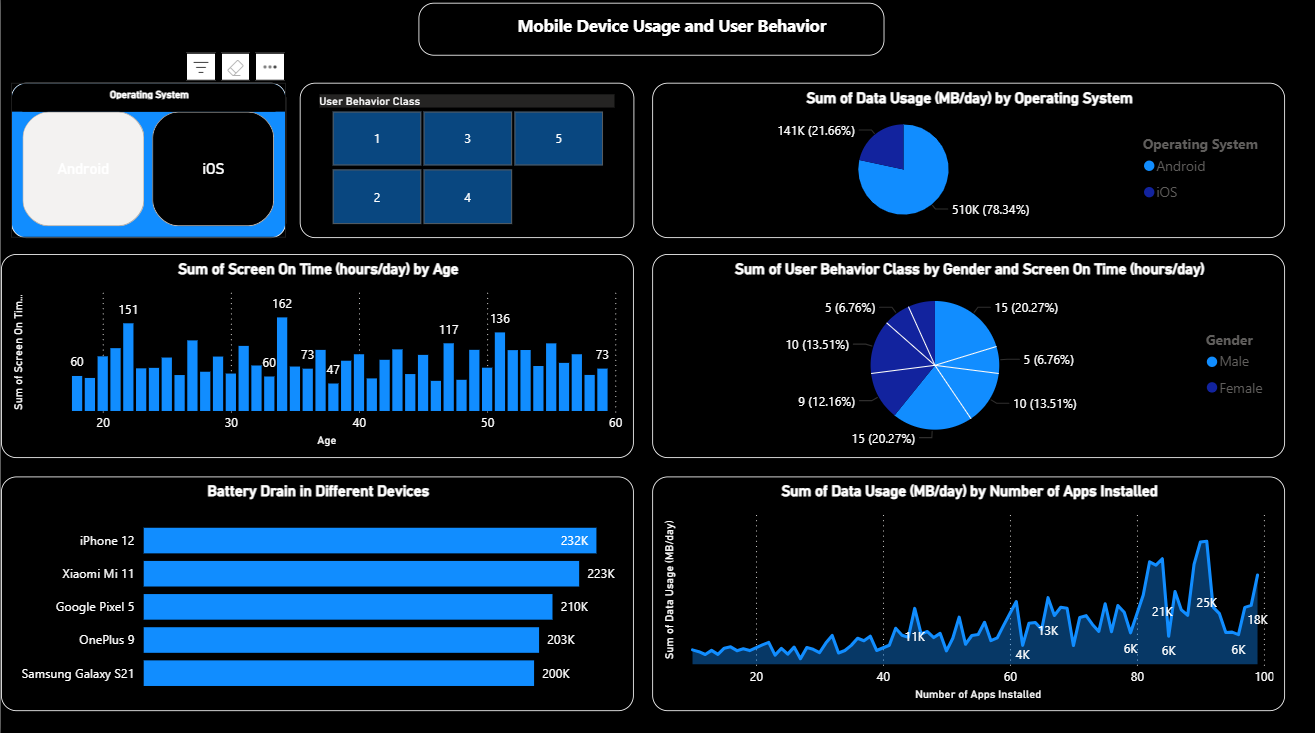

This screenshot's page, from the dashboard's own definition file:
{"tool":"powerbi","page":{"name":"Page 1","canvas":[1280,720],"ordinal":0},"visuals":[{"type":"barChart","title":"Battery Drain in Different Devices","fields":{"Category":["user_behavior_dataset.Device Model"],"Y":["Sum(user_behavior_dataset.Battery Drain (mAh/day))"]},"box":[0,466.7,613.1,227.4],"z":0},{"type":"pieChart","fields":{"Y":["Sum(user_behavior_dataset.Data Usage (MB/day))"],"Category":["user_behavior_dataset.Operating System"]},"box":[631,85.7,613.1,150],"z":1000},{"type":"stackedAreaChart","fields":{"Category":["user_behavior_dataset.Number of Apps Installed"],"Y":["Sum(user_behavior_dataset.Data Usage (MB/day))"]},"box":[631,466.7,613.1,227.4],"z":2000},{"type":"advancedSlicerVisual","fields":{"Values":["user_behavior_dataset.Operating System"]},"box":[9.5,85.7,266.7,150],"z":3000},{"type":"columnChart","fields":{"Category":["user_behavior_dataset.Age"],"Y":["Sum(user_behavior_dataset.Screen On Time (hours/day))"]},"box":[0,251.2,613.1,197.6],"z":4000},{"type":"pieChart","fields":{"Y":["Sum(user_behavior_dataset.User Behavior Class)"],"Series":["user_behavior_dataset.Screen On Time (hours/day)"],"Category":["user_behavior_dataset.Gender"]},"box":[631,251.2,613.1,197.6],"z":4001},{"type":"textbox","box":[404.8,8.3,451.2,51.2],"z":4002},{"type":"slicer","fields":{"Values":["user_behavior_dataset.User Behavior Class"]},"box":[289.3,85.7,323.8,150],"z":4003}]}

Visuals, with their boxes in screenshot pixels (x1, y1, x2, y2), scaled from the page's 1280x720 canvas onto the 1315x733 screenshot:
"Battery Drain in Different Devices" barChart: bbox=(0, 475, 630, 707)
pieChart - Sum(user_behavior_dataset.Data Usage (MB/day)) x user_behavior_dataset.Operating System: bbox=(648, 87, 1278, 240)
stackedAreaChart - user_behavior_dataset.Number of Apps Installed x Sum(user_behavior_dataset.Data Usage (MB/day)): bbox=(648, 475, 1278, 707)
advancedSlicerVisual - user_behavior_dataset.Operating System: bbox=(10, 87, 284, 240)
columnChart - user_behavior_dataset.Age x Sum(user_behavior_dataset.Screen On Time (hours/day)): bbox=(0, 256, 630, 457)
pieChart - Sum(user_behavior_dataset.User Behavior Class) x user_behavior_dataset.Screen On Time (hours/day): bbox=(648, 256, 1278, 457)
textbox: bbox=(416, 8, 879, 61)
slicer - user_behavior_dataset.User Behavior Class: bbox=(297, 87, 630, 240)
